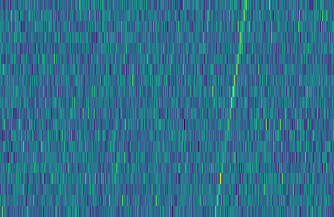signal: (212, 0, 252, 217)
